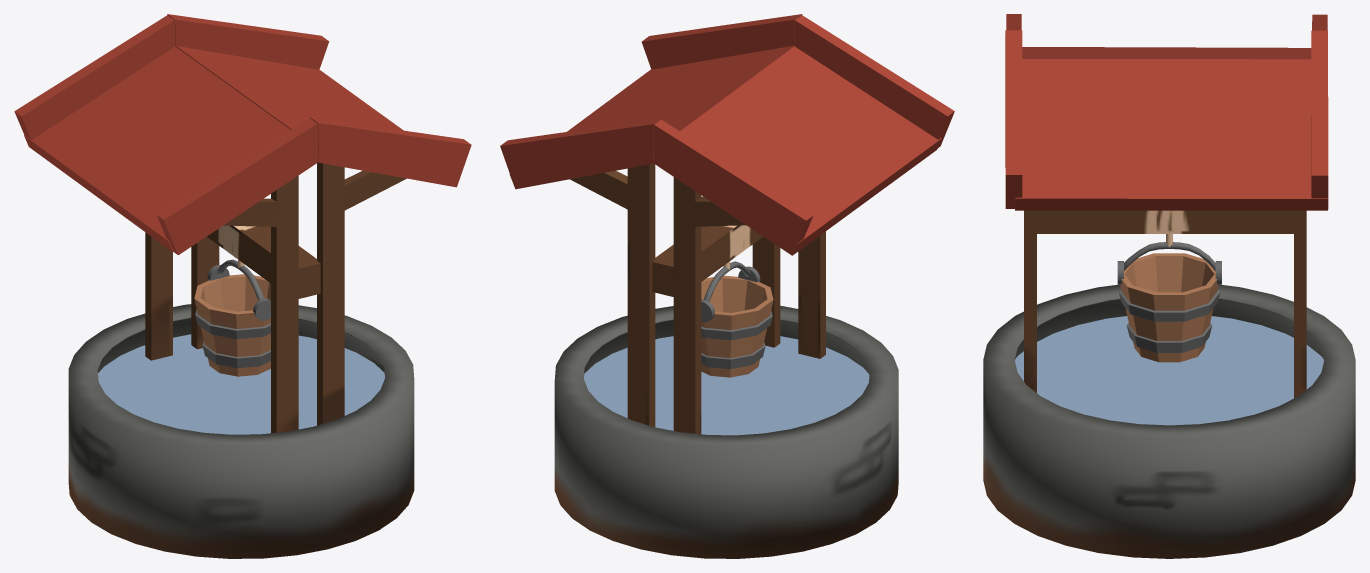
File: water_well.fbx
The picture shows the model from 3 angles, left to right: view 1: azimuth 30°, elevation 25°; view 2: azimuth 150°, elevation 25°; view 3: azimuth 270°, elevation 25°; orthographic projection. The views are drawn at different scales.
Visible parts, largest first — view 1: roof, well_base, wood, water, bucket, bucket_handle, bucket_deco1, bucket_deco2; view 2: roof, well_base, wood, water, bucket, bucket_handle, bucket_deco1, bucket_deco2; view 3: well_base, roof, water, wood, bucket, bucket_deco1, bucket_deco2, bucket_handle.
Part boxes in pixels (left/top/right/bottom): roof: left=14, top=14, right=471, bottom=255; well_base: left=68, top=304, right=414, bottom=558; wood: left=145, top=162, right=406, bottom=433; water: left=98, top=334, right=384, bottom=434; bucket: left=194, top=274, right=270, bottom=376; bucket_handle: left=207, top=259, right=270, bottom=320; bucket_deco1: left=195, top=309, right=270, bottom=339; bucket_deco2: left=202, top=340, right=270, bottom=368; roof: left=500, top=14, right=954, bottom=255; well_base: left=554, top=305, right=898, bottom=558; wood: left=570, top=163, right=825, bottom=434; water: left=584, top=336, right=869, bottom=435; bucket: left=701, top=275, right=773, bottom=377; bucket_handle: left=701, top=261, right=760, bottom=322; bucket_deco1: left=701, top=311, right=772, bottom=340; bucket_deco2: left=701, top=342, right=765, bottom=369; well_base: left=983, top=284, right=1355, bottom=558; roof: left=1005, top=14, right=1328, bottom=210; water: left=1015, top=316, right=1323, bottom=425; wood: left=1024, top=210, right=1306, bottom=398; bucket: left=1120, top=253, right=1218, bottom=362; bucket_deco1: left=1118, top=289, right=1220, bottom=321; bucket_deco2: left=1126, top=323, right=1212, bottom=352; bucket_handle: left=1117, top=242, right=1221, bottom=284.
Bounding box in the file's own units: 327 × 426 × 319.
